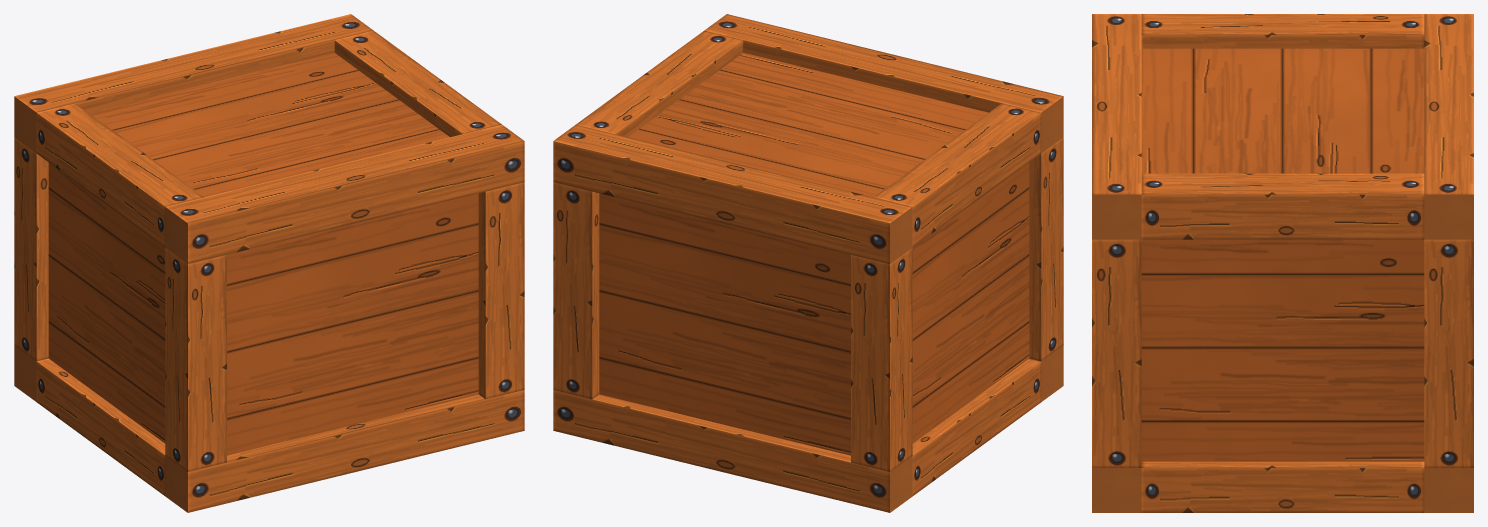
The model's file is Crate_Small3.fbx.
The picture shows the model from 3 angles, left to right: view 1: azimuth 30°, elevation 25°; view 2: azimuth 150°, elevation 25°; view 3: azimuth 270°, elevation 25°; orthographic projection. The views are drawn at different scales.
Visible parts, largest first — view 1: Crate_Small3_Body; view 2: Crate_Small3_Body; view 3: Crate_Small3_Body.
Part boxes in pixels (<box>): Crate_Small3_Body: <box>14,14,524,512</box>; Crate_Small3_Body: <box>553,14,1063,512</box>; Crate_Small3_Body: <box>1092,14,1473,512</box>.
Bounding box in the file's own units: 0.56 × 0.46 × 0.5.
1 material, 1 textured.
